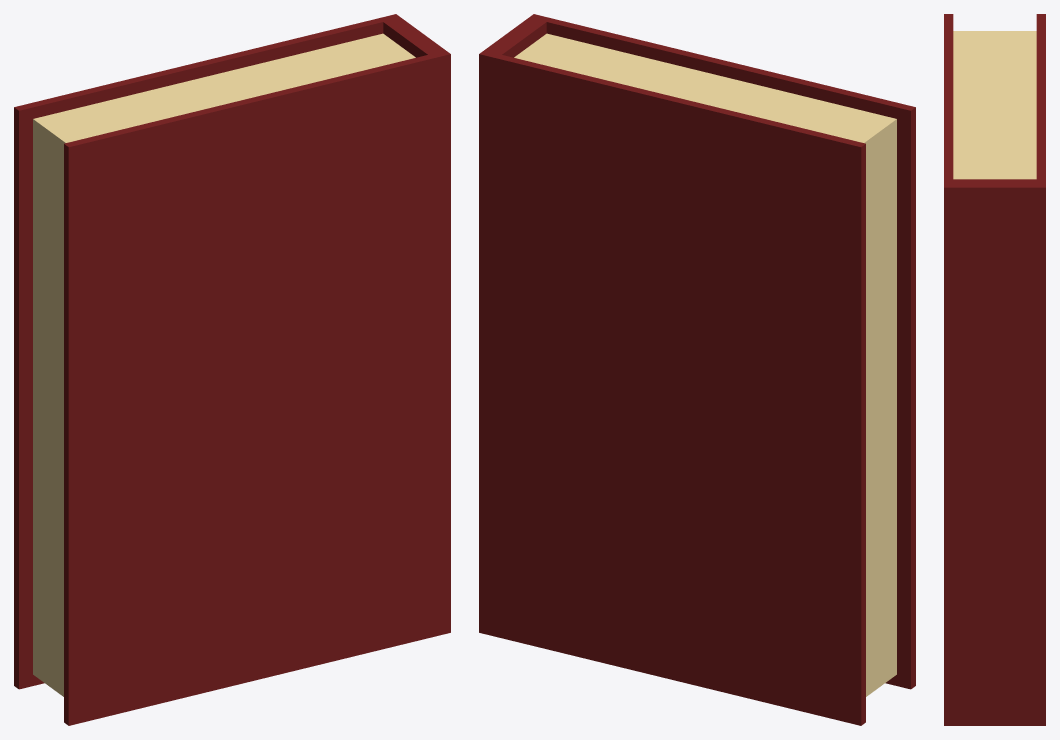
The model's file is Kitap.fbx.
3 renders of one model, left to right at view 1: azimuth 30°, elevation 25°; view 2: azimuth 150°, elevation 25°; view 3: azimuth 270°, elevation 25°, orthographic. The views are drawn at different scales.
Visible parts, largest first — view 1: Cube.007; view 2: Cube.007; view 3: Cube.007.
Boxes of the visible parts, <box> form: Cube.007: <box>14,14,450,725</box>; Cube.007: <box>479,14,915,725</box>; Cube.007: <box>944,14,1045,725</box>.
Bounding box in the file's own units: 138 × 200 × 34.3.
